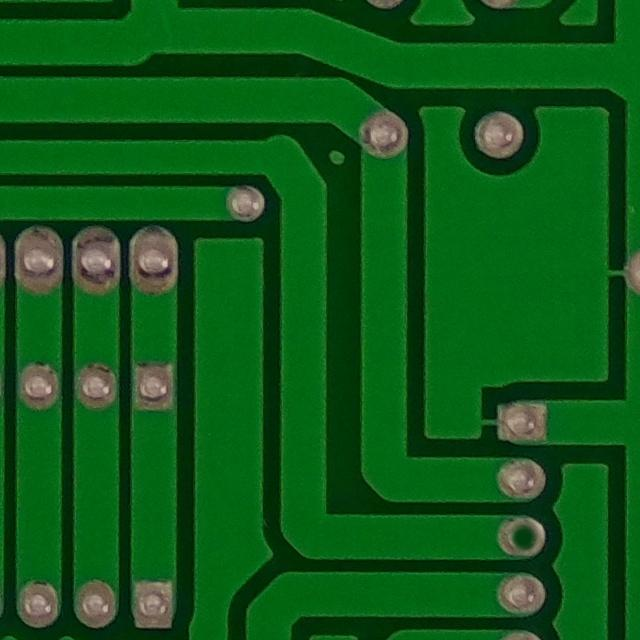missing_hole: (497, 510, 551, 566)
